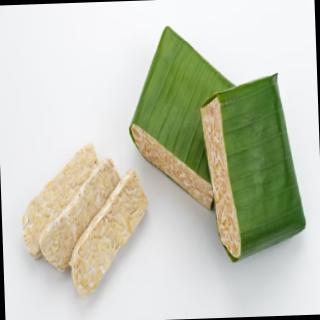Tempe: (127, 21, 309, 267), (200, 72, 309, 265), (67, 169, 153, 299), (20, 142, 103, 262), (200, 95, 243, 263)
